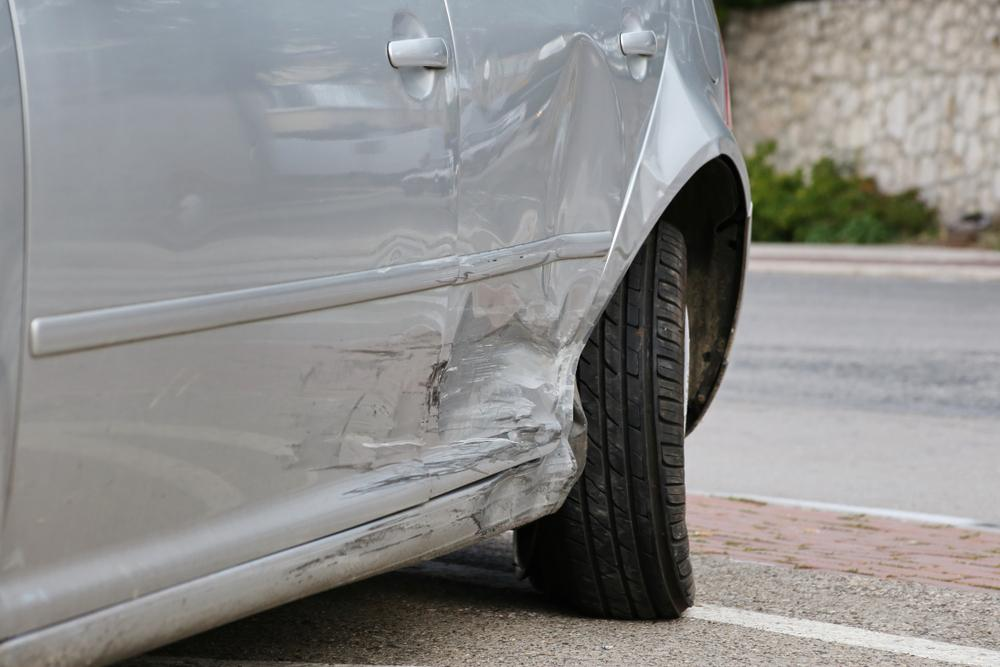dent: (424, 36, 632, 485), (464, 447, 577, 538)
scratch: (277, 326, 449, 500), (290, 506, 439, 591)
